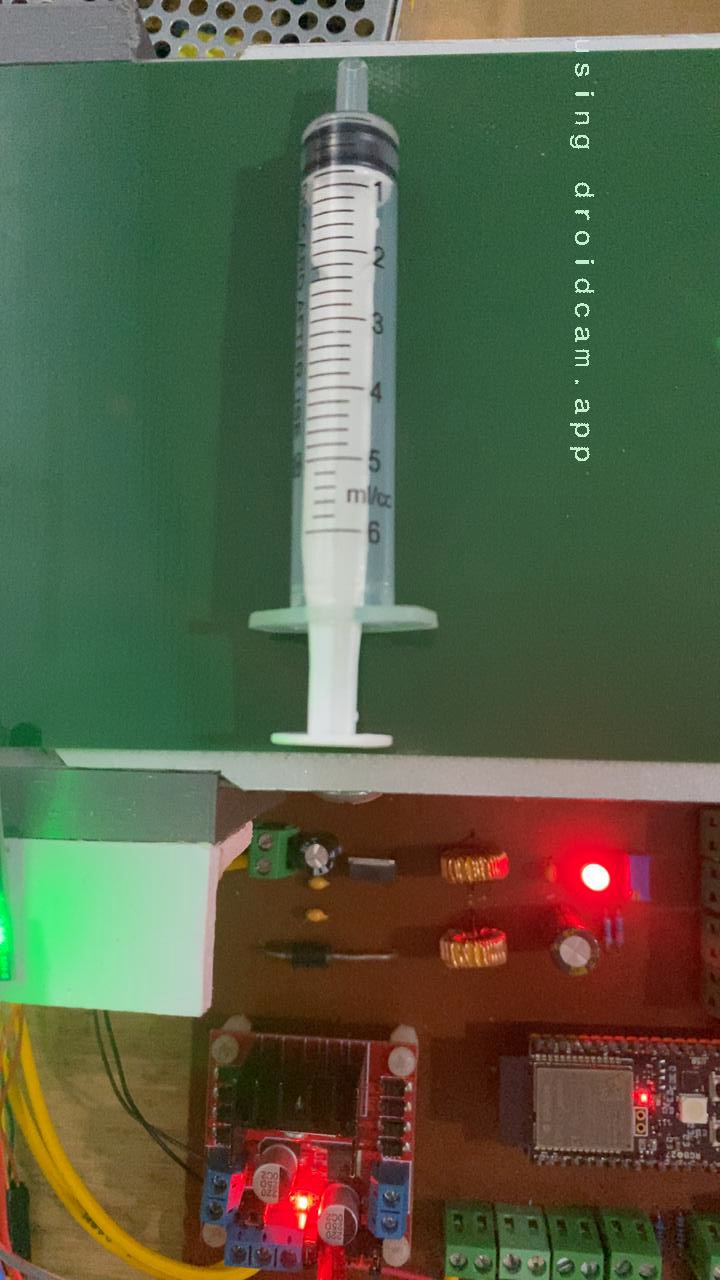syringe: (0, 54, 419, 753)
